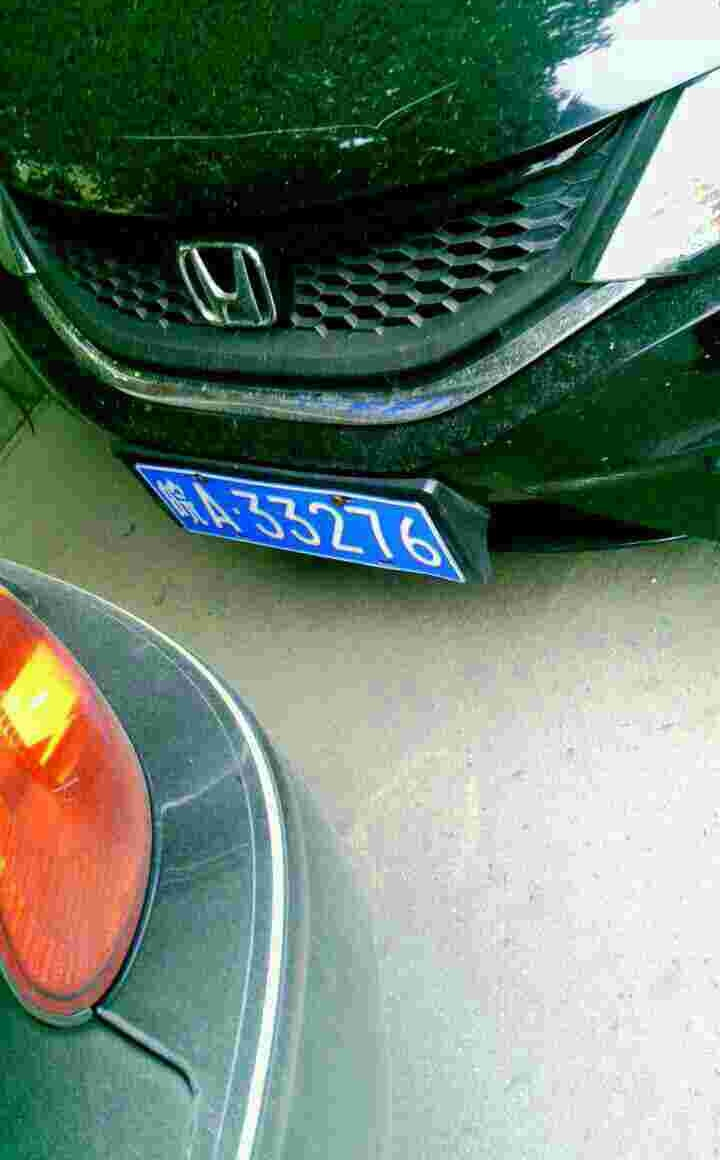license_plate: (152, 468, 462, 567)
